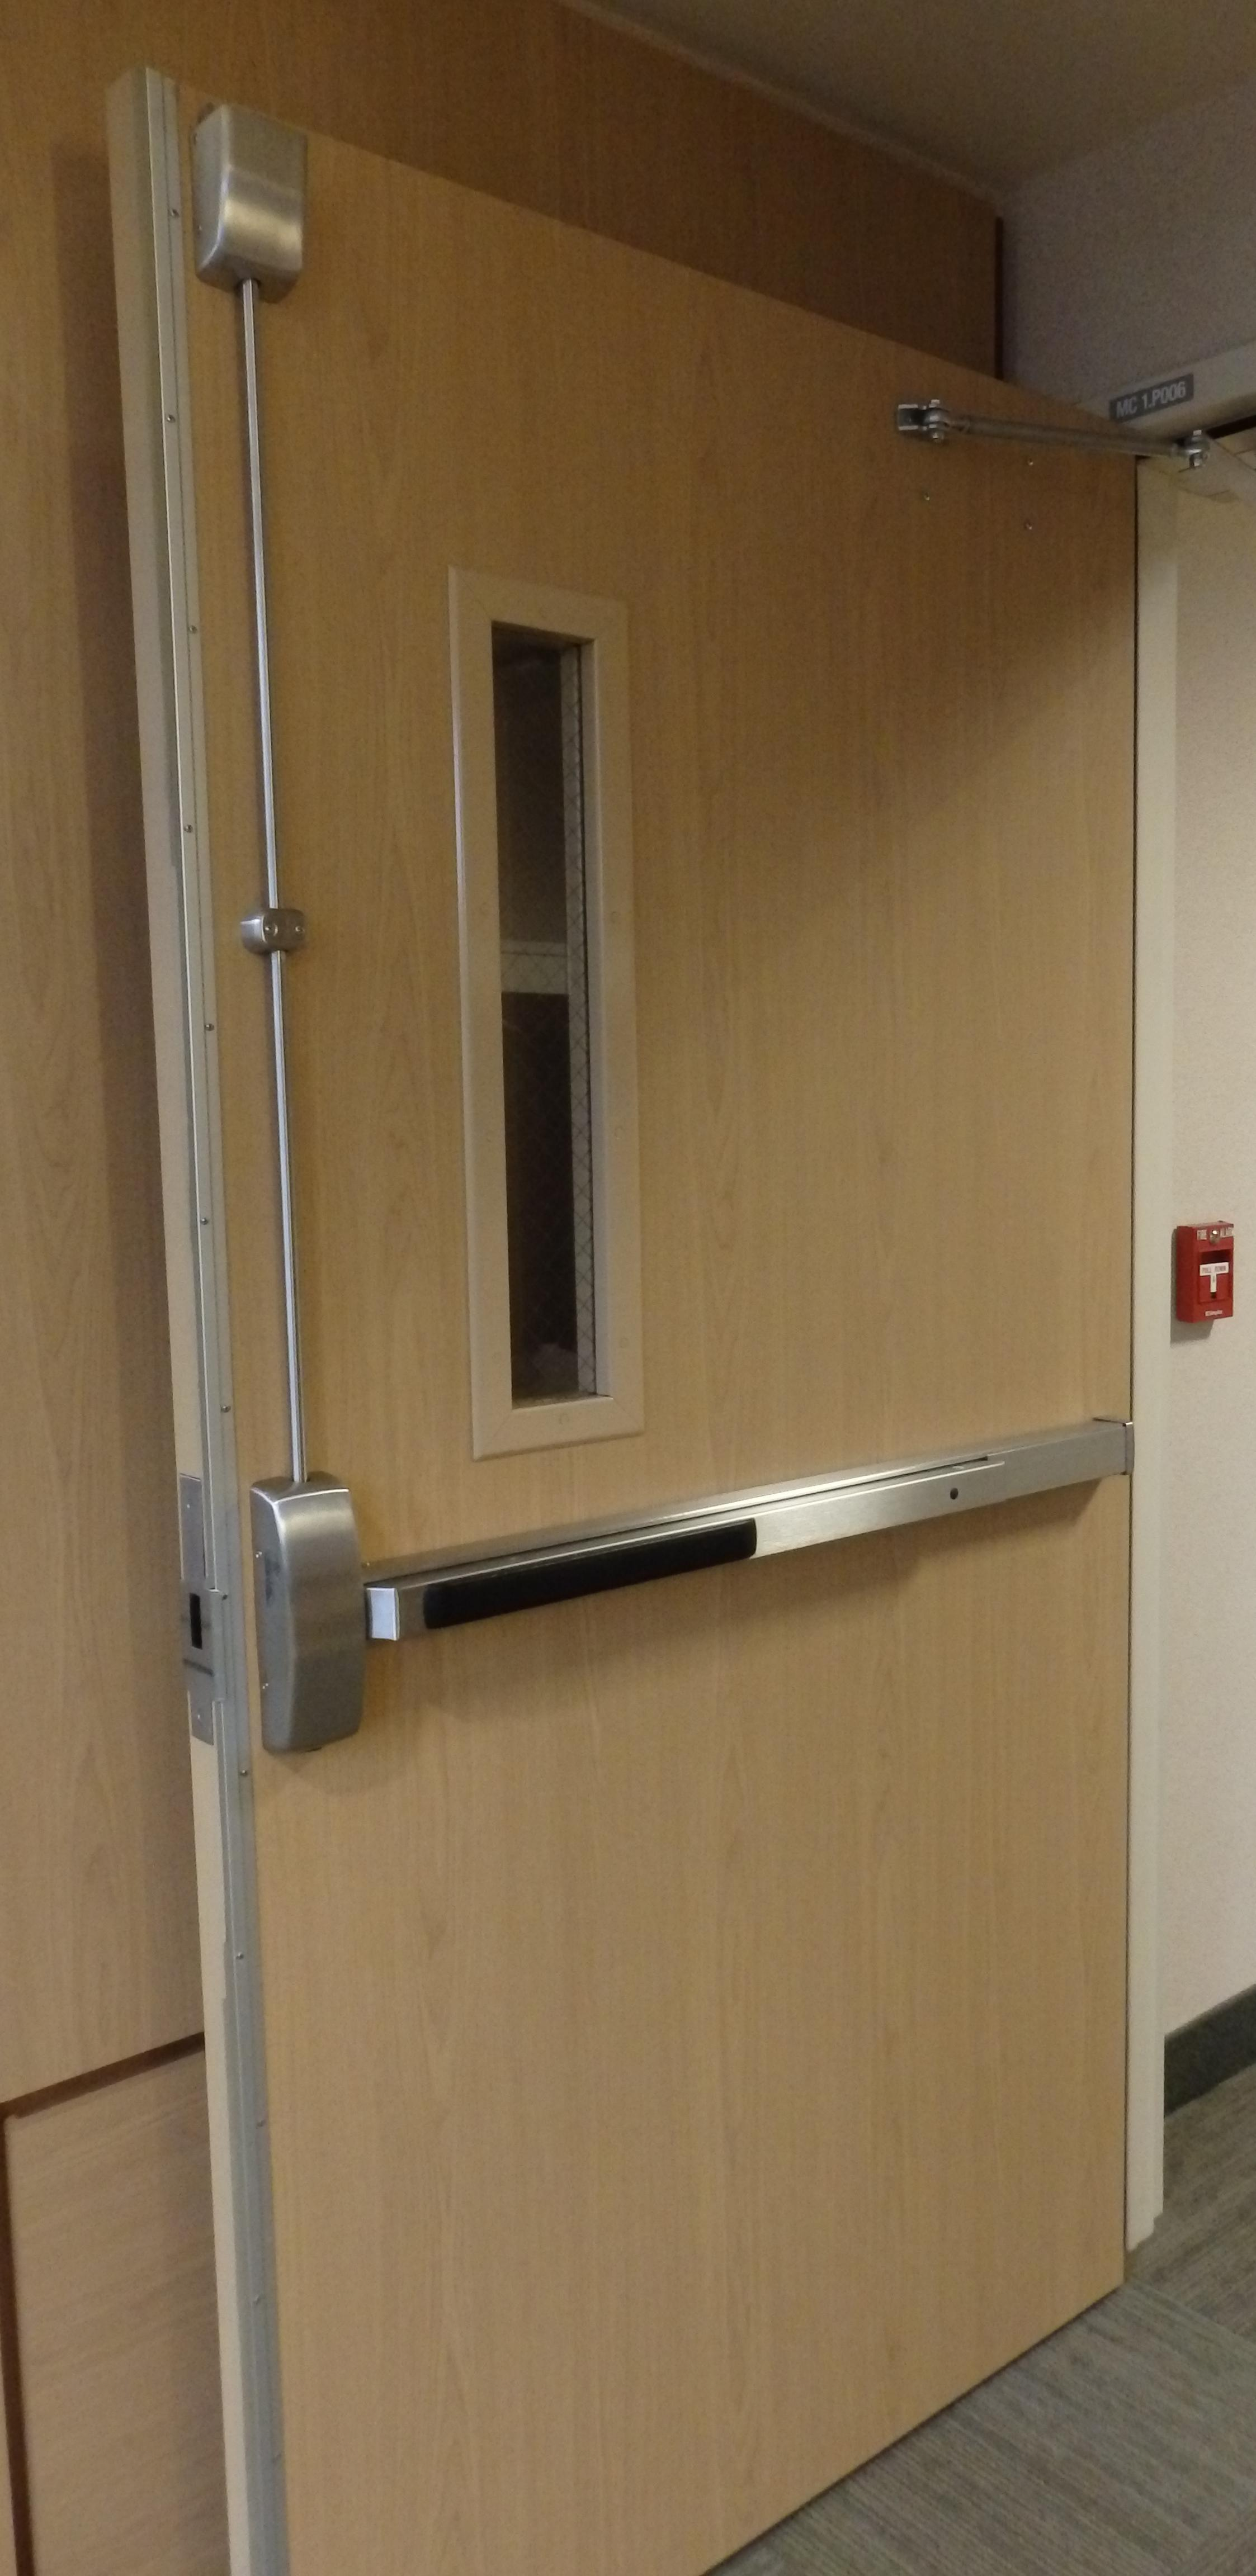door: (125, 84, 1138, 2573)
